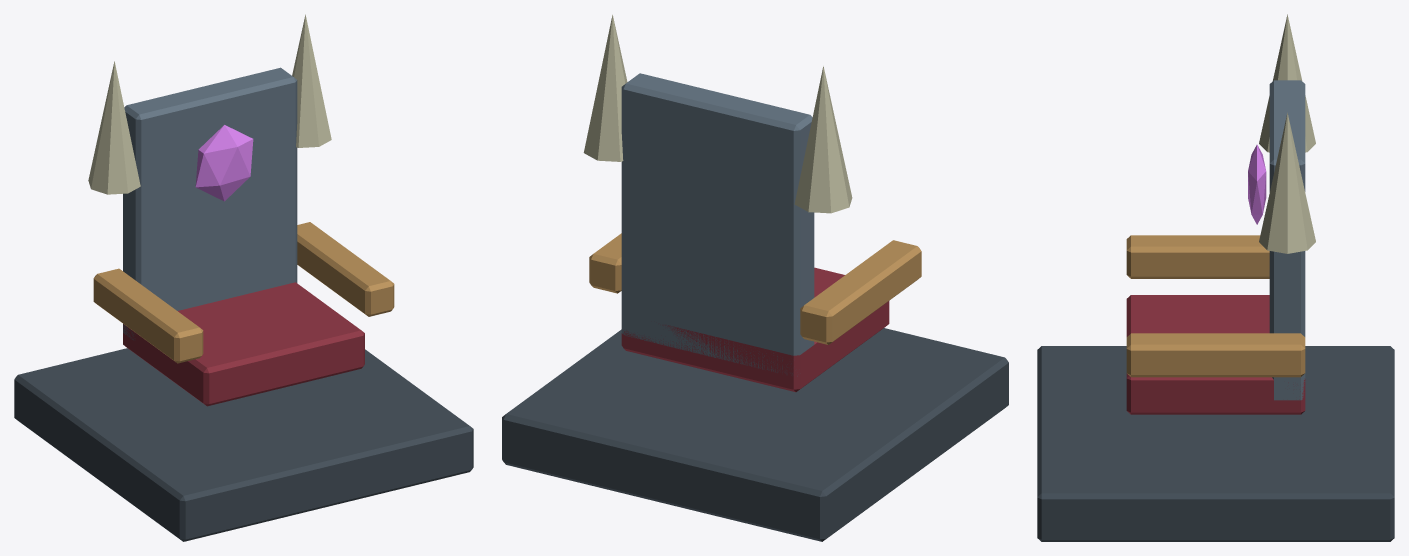
File: SH10_L09_Throne.fbx
3 renders of one model, left to right at view 1: azimuth 30°, elevation 25°; view 2: azimuth 150°, elevation 25°; view 3: azimuth 270°, elevation 25°, orthographic. The views are drawn at different scales.
Parts seen in each view (by area): view 1: SH10_L09_Throne; view 2: SH10_L09_Throne; view 3: SH10_L09_Throne.
Boxes of the visible parts, <box> form: SH10_L09_Throne: <box>14,14,473,541</box>; SH10_L09_Throne: <box>502,15,1008,541</box>; SH10_L09_Throne: <box>1037,14,1394,541</box>.
Bounding box in the file's own units: 200 × 250 × 200.
